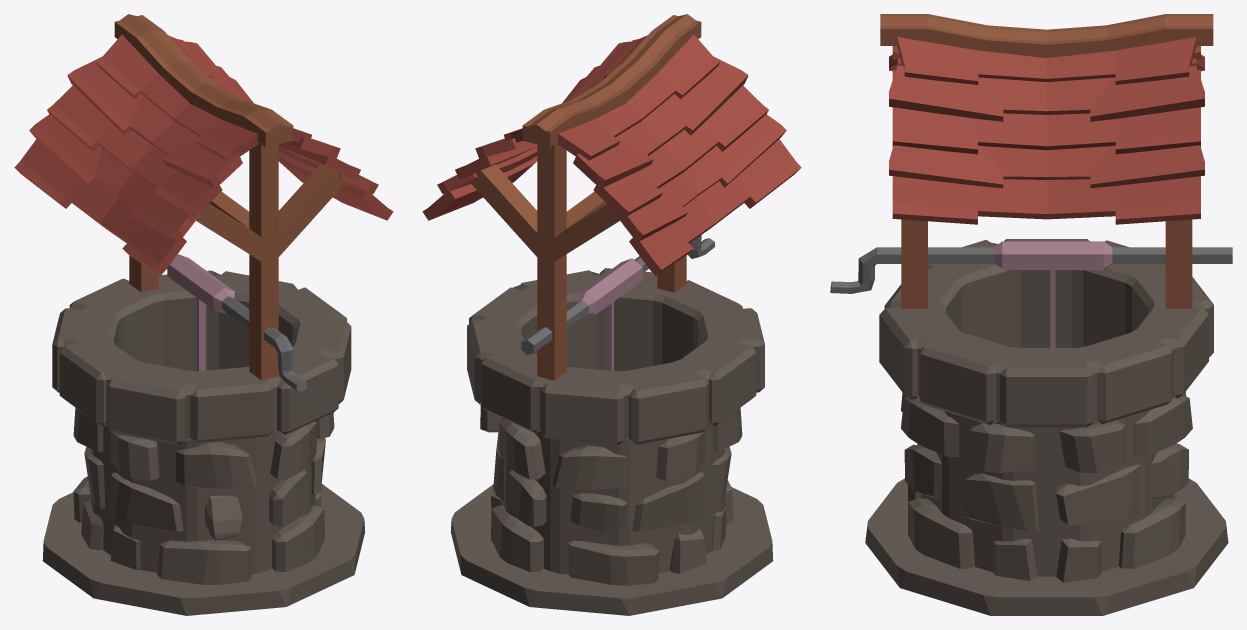
Rendered from Well.fbx.
The picture shows the model from 3 angles, left to right: view 1: azimuth 30°, elevation 25°; view 2: azimuth 150°, elevation 25°; view 3: azimuth 270°, elevation 25°; orthographic projection. The views are drawn at different scales.
Visible parts, largest first — view 1: Well; view 2: Well; view 3: Well.
Boxes of the visible parts, left/top/right/bottom form: Well: left=14, top=14, right=393, bottom=615; Well: left=422, top=14, right=801, bottom=615; Well: left=830, top=14, right=1232, bottom=615.
Size of the model in its own units: 128 by 215 by 149.
